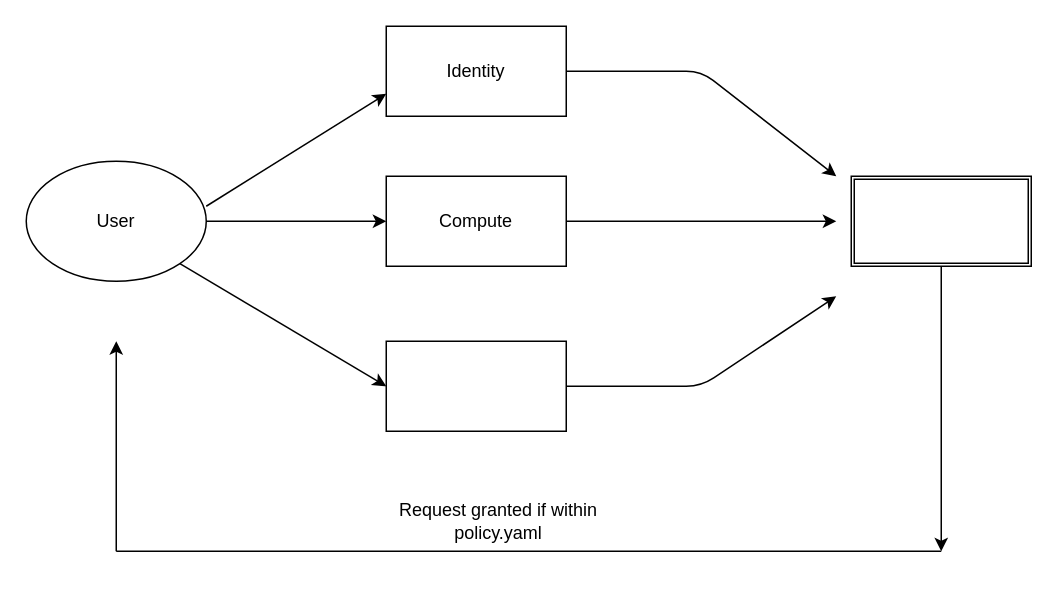
Image size: 1058x590. Some labels were removed from this diagram. Here are the shapes that lost their labels. From the top down, the centre of each, then its label:
[940,220]: Policy.yaml
[475,385]: Networking
